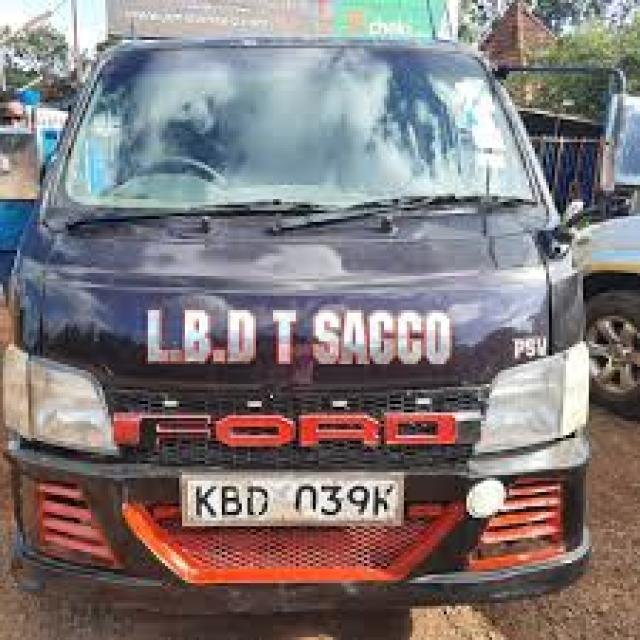matatu: (5, 7, 638, 626)
